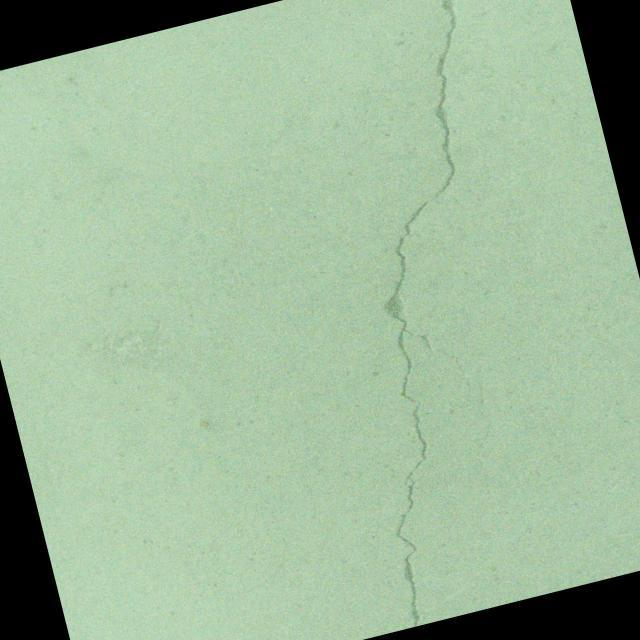crack: (258, 0, 616, 627), (443, 380, 520, 537), (452, 134, 483, 167)
